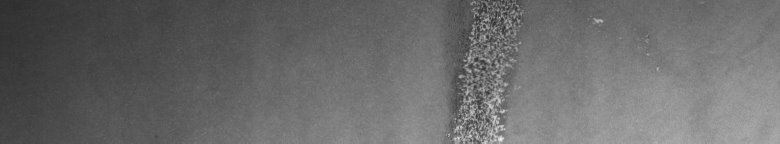hc: (444, 4, 649, 136)
